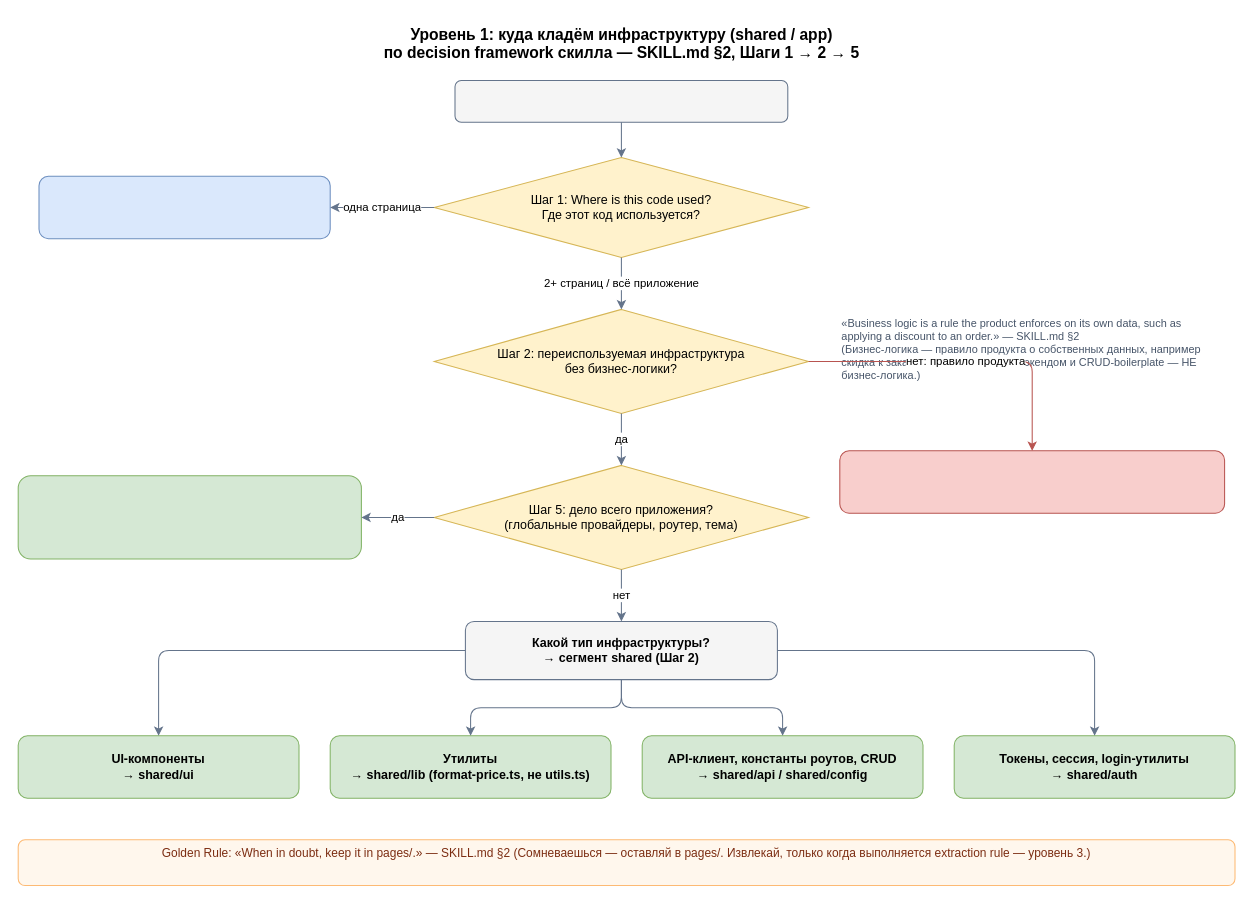
This 1253x904 diagram has some shape labels left out. Each missing label, with the centre of its shape:
"app/ providers · router · styles · fonts · entrypoint · аналитика" belongs at (x=189, y=517).
"Бизнес-контекст (правило продукта) → Уровни 3–4 (entities / features)" belongs at (x=1032, y=481).
"Новый код ищет место" belongs at (x=621, y=101).
"Слайс этой страницы → Уровень 2 (pages)" belongs at (x=184, y=207).
